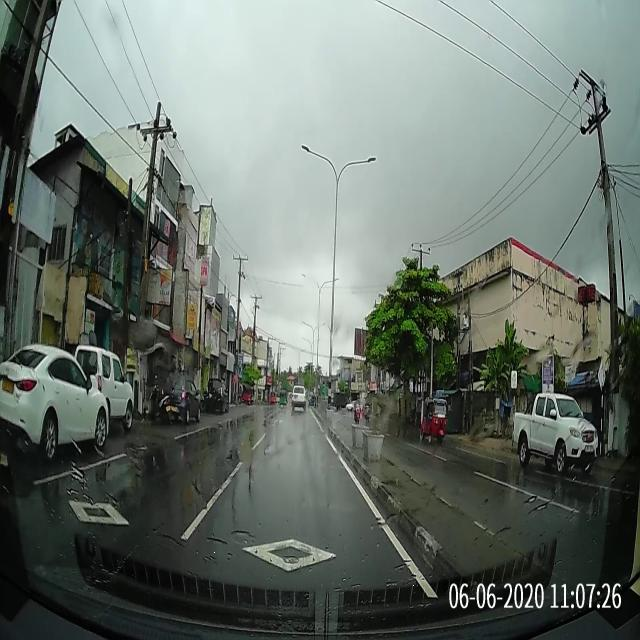diamond: (165, 521, 432, 598)
